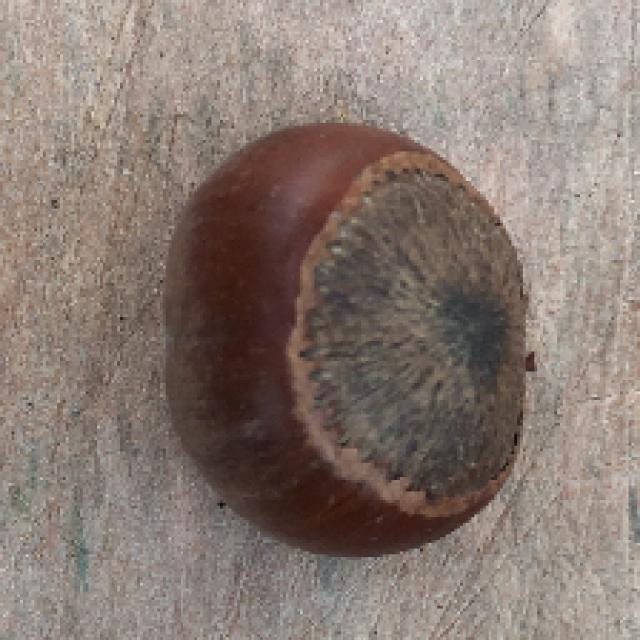DamagedHazelnut: (164, 123, 528, 560)
